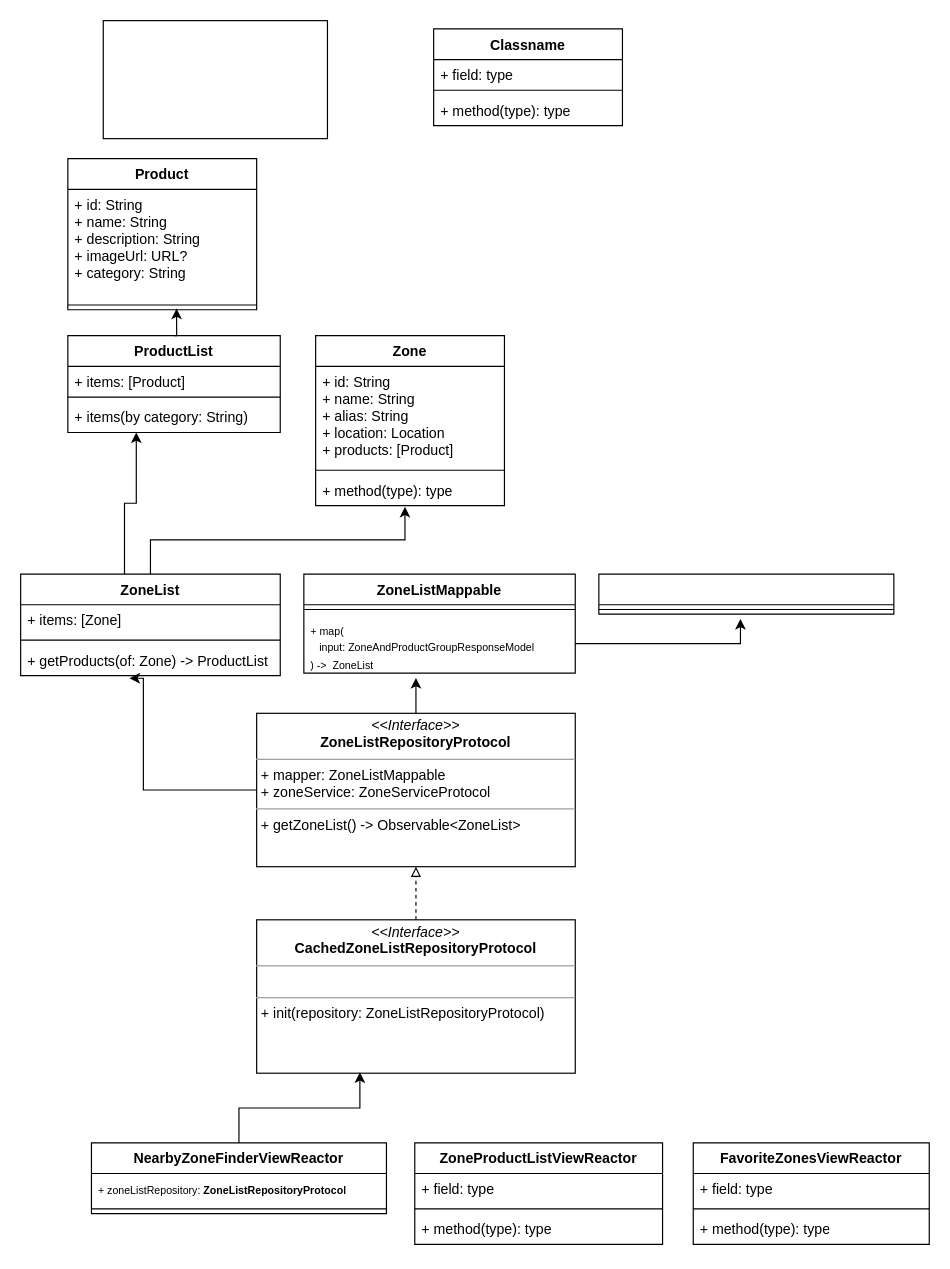
Image size: 950x1269. Some labels were removed from this diagram. The centre of each missing label's shape, as x and y in pixels:
<<Interface>> Interface + +: (x=214, y=79)
ZoneAndProductGroupResponseModel: (x=746, y=593)
